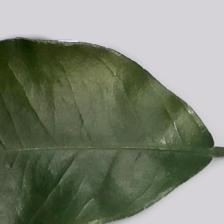healthy: (0, 57, 217, 217)
